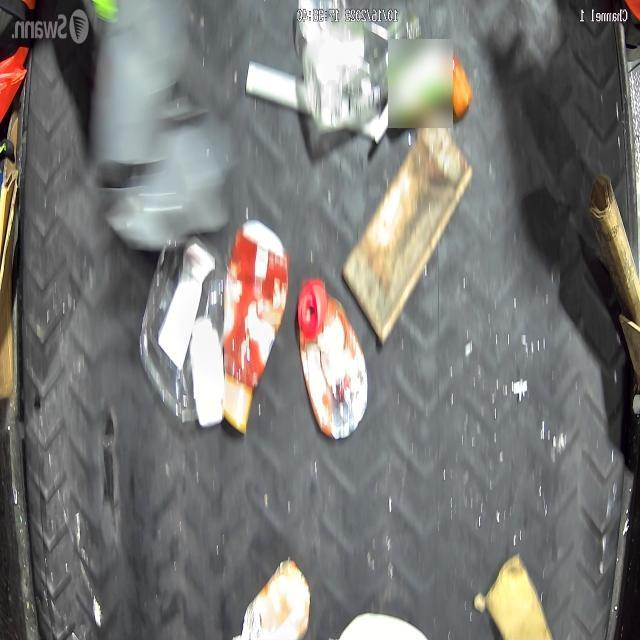non_white_jug: (223, 210, 287, 437)
